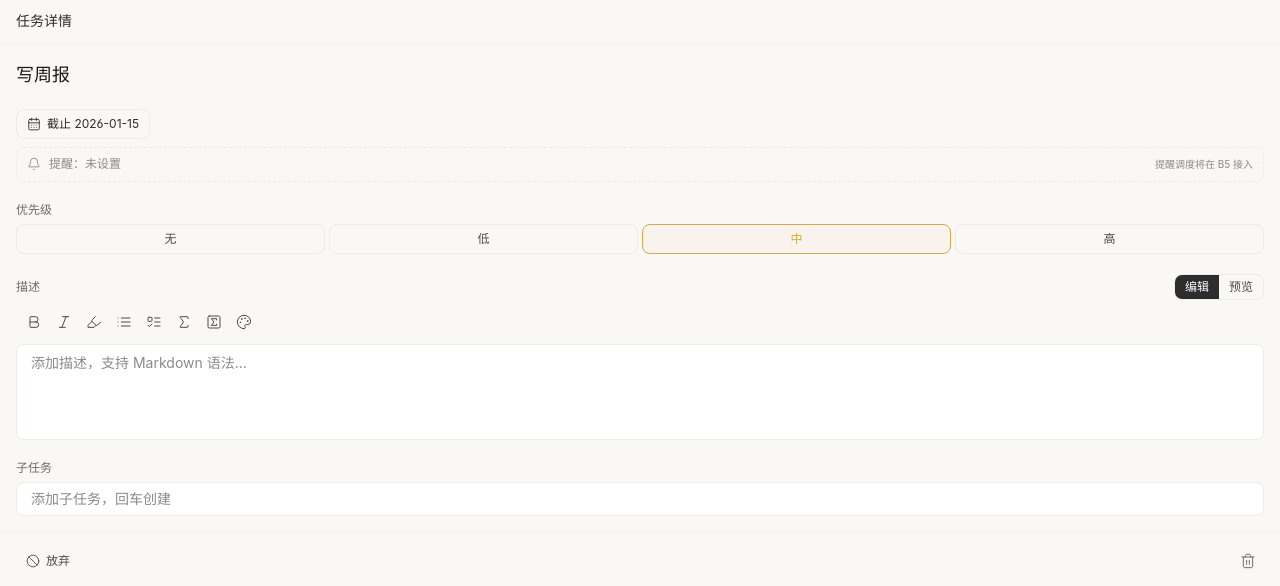
Scenario: TaskDetail · 截止日期 › 清空日期移除字段
The width and height of the screenshot is (1280, 586).
Clear the date field named "截止日期": (83, 124) [16,109,150,139]
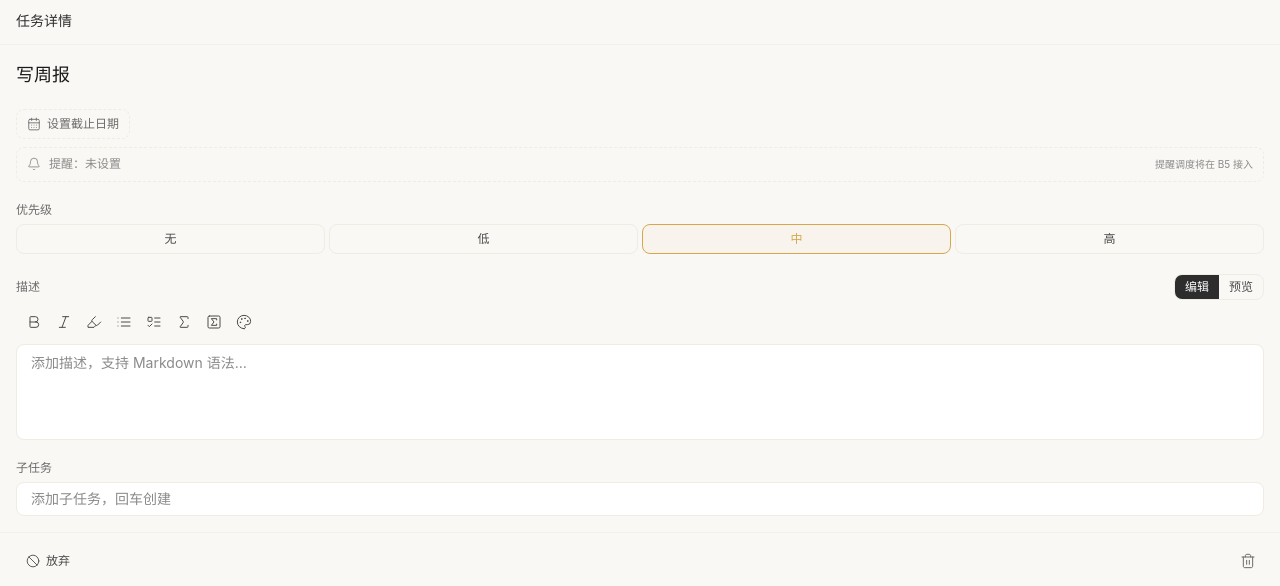
Expected: the text "设置截止日期" is shown, [47,116,119,132]
